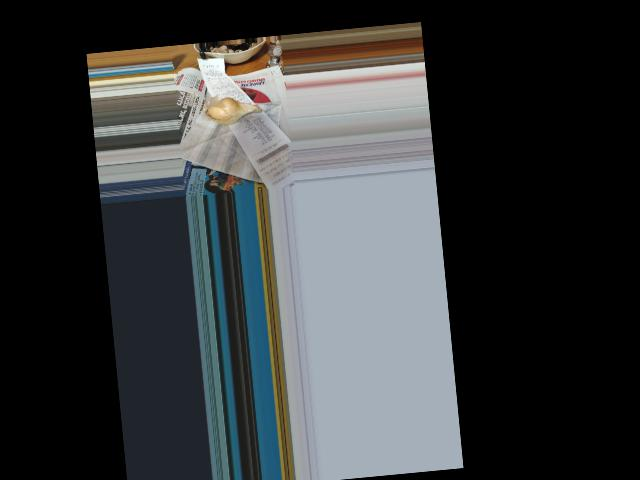onion: (203, 93, 256, 128)
